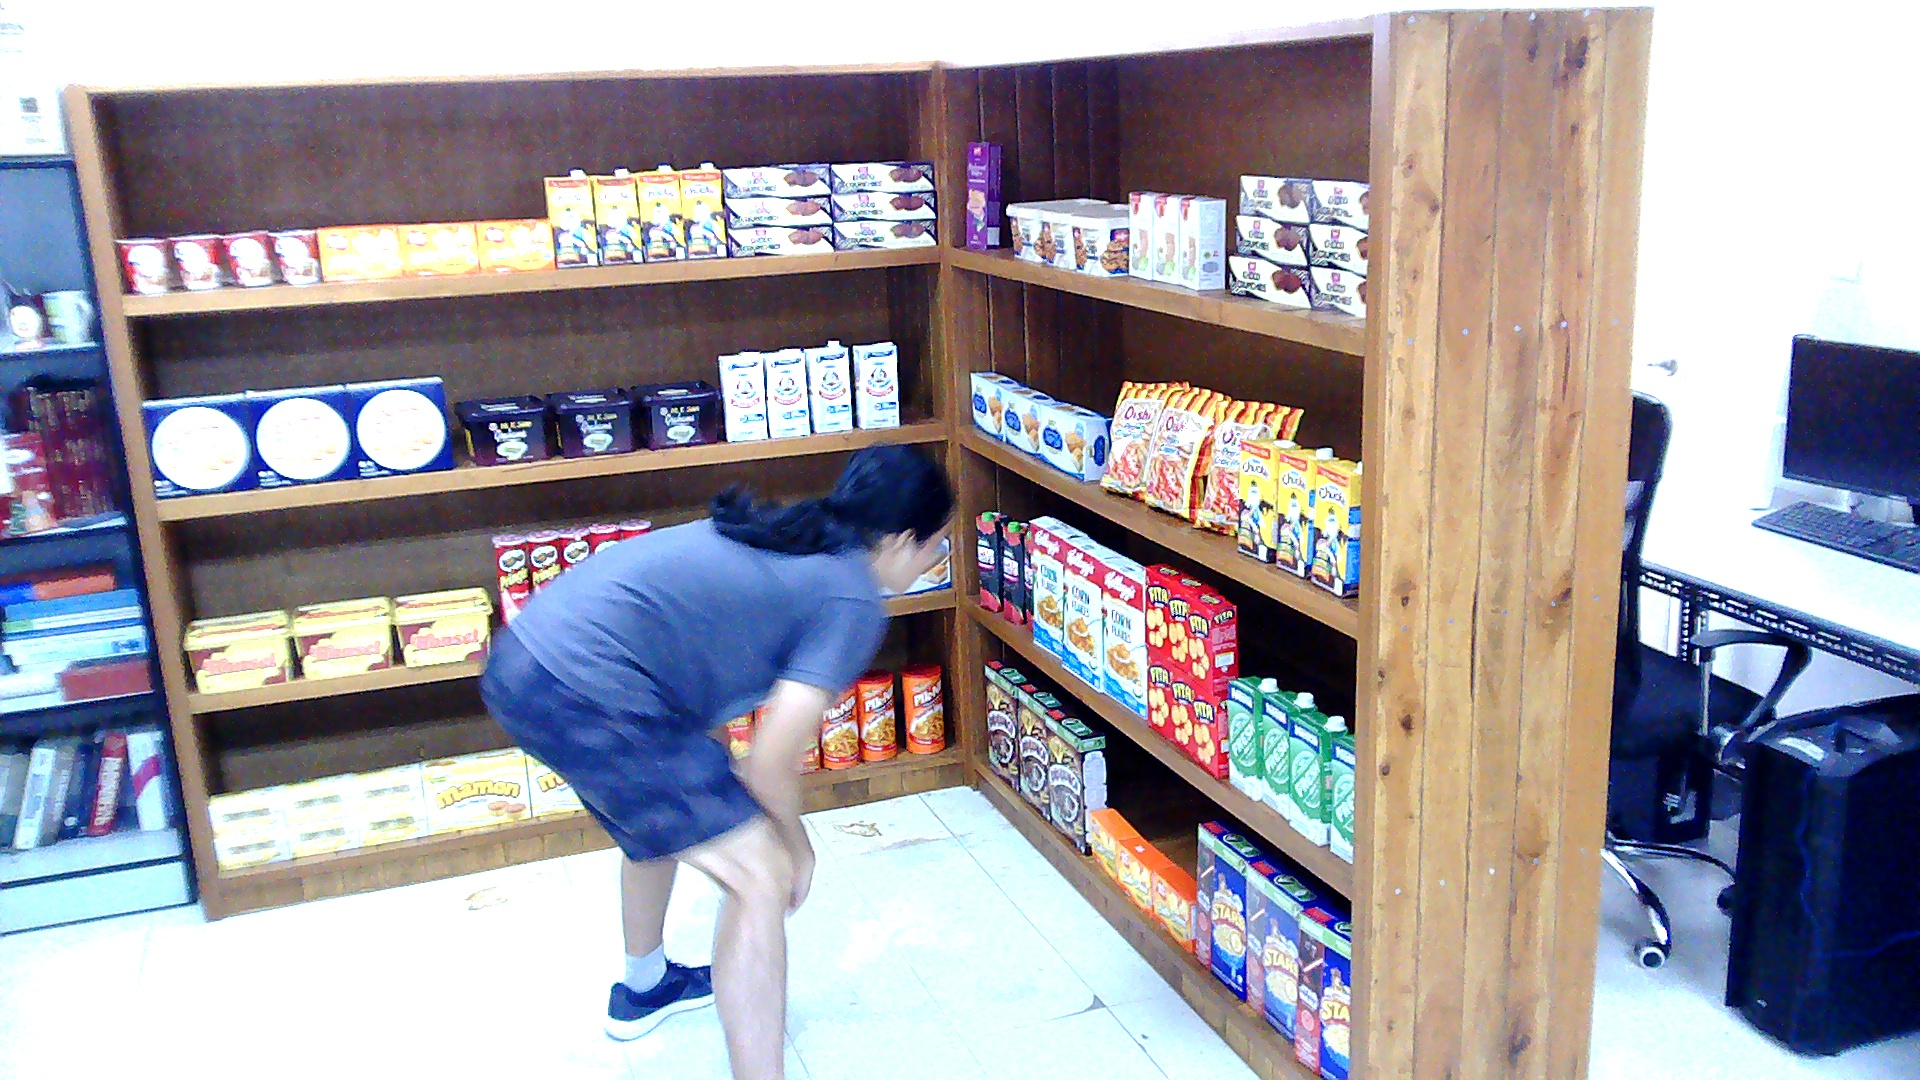Bear brand: (801, 340, 852, 432), (717, 351, 768, 441), (759, 349, 810, 437), (852, 342, 900, 430)
Buttercake: (1040, 400, 1109, 481), (998, 385, 1055, 459), (969, 369, 1023, 441)
Butterlicious: (1116, 837, 1176, 918), (318, 223, 399, 279), (396, 221, 477, 275), (477, 218, 552, 270), (1152, 864, 1194, 954), (1089, 808, 1140, 880)
Camomille: (207, 783, 285, 837), (279, 774, 357, 823), (351, 762, 423, 809), (285, 815, 360, 855), (213, 828, 288, 868), (360, 804, 426, 844)
Choco Crunchies: (1227, 254, 1305, 306), (828, 157, 933, 191), (722, 162, 827, 196), (723, 193, 831, 225), (726, 222, 834, 254), (830, 218, 935, 250), (830, 189, 935, 221), (1233, 213, 1305, 260), (1238, 173, 1307, 220), (1308, 265, 1365, 317), (1310, 177, 1367, 224), (1308, 222, 1365, 269)
Chocolate Chips: (1005, 198, 1107, 261), (1041, 202, 1125, 267), (1070, 209, 1127, 277)
Chuckie: (1275, 445, 1338, 578), (1235, 439, 1298, 563), (1311, 459, 1362, 596), (542, 168, 599, 265), (588, 167, 645, 261), (636, 164, 684, 261), (678, 162, 726, 256)
Danisa: (141, 391, 255, 497), (243, 385, 354, 488), (345, 375, 453, 476)
Fita: (1190, 593, 1235, 692), (1170, 573, 1215, 674), (1145, 562, 1184, 661), (1194, 681, 1227, 778), (1145, 648, 1172, 738), (1170, 668, 1191, 756)
Fresh Milk: (1290, 710, 1347, 845), (1263, 691, 1317, 819), (1227, 675, 1281, 801), (1329, 734, 1353, 864)
Grahams: (453, 394, 552, 466), (542, 387, 635, 457), (626, 380, 719, 450)
Hansel: (183, 609, 294, 692), (390, 585, 492, 666), (291, 596, 393, 675)
Head: (809, 422, 980, 589)
Honey Stars: (1244, 854, 1325, 1041), (1193, 819, 1268, 1001), (1292, 902, 1349, 1078)
Kellogg Corn Flakes: (1061, 535, 1124, 692), (1028, 515, 1085, 657), (1100, 558, 1145, 720)
Kimchi Noodles: (269, 226, 320, 285), (219, 229, 270, 288), (165, 234, 219, 288), (113, 236, 164, 292)
Koko Krunch: (1043, 704, 1106, 855), (981, 659, 1035, 792), (1014, 682, 1059, 824)
Mamon: (419, 747, 530, 833)
Oishi Prawn: (1191, 400, 1305, 535), (1146, 386, 1230, 519), (1101, 380, 1185, 499)
Pik-nik: (900, 662, 945, 754), (819, 684, 861, 770), (858, 666, 894, 760)
Pringles: (491, 533, 530, 625), (528, 528, 561, 591), (558, 524, 591, 567)
Super Fruits: (975, 510, 1011, 611), (1001, 522, 1028, 623)
Wafer: (966, 140, 1002, 248)
iHop: (1178, 194, 1223, 288), (1151, 193, 1190, 283), (1128, 189, 1161, 279)
